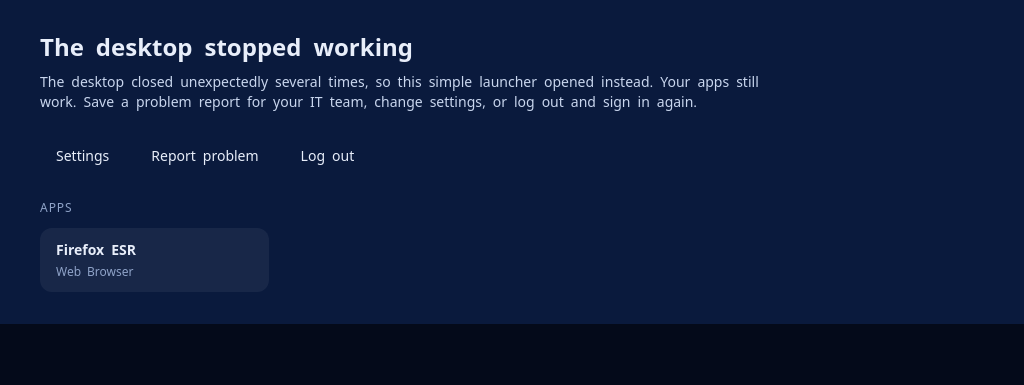
Scenario: Minimal launcher (WSOS-SES-005) › lists apps without terminals and offers Settings, Report problem and Log out
Expected: the button "Settings" is shown, [40,136,125,176]
Expected: the button "Log out" is shown, [285,136,370,176]
Step 1. Click the button "Report problem" → [205, 156], box [135,136,275,176]
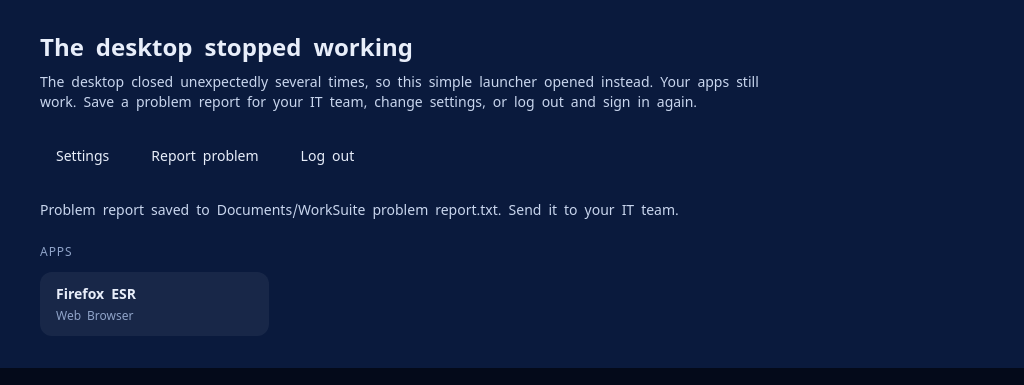
Expected: the message shows "Documents/WorkSuite problem report.txt", [40,201,679,219]
